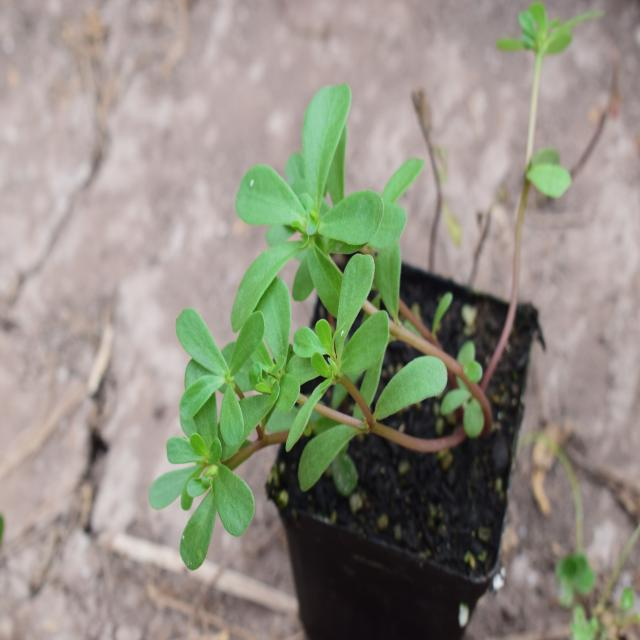purslane: (146, 136, 478, 524)
